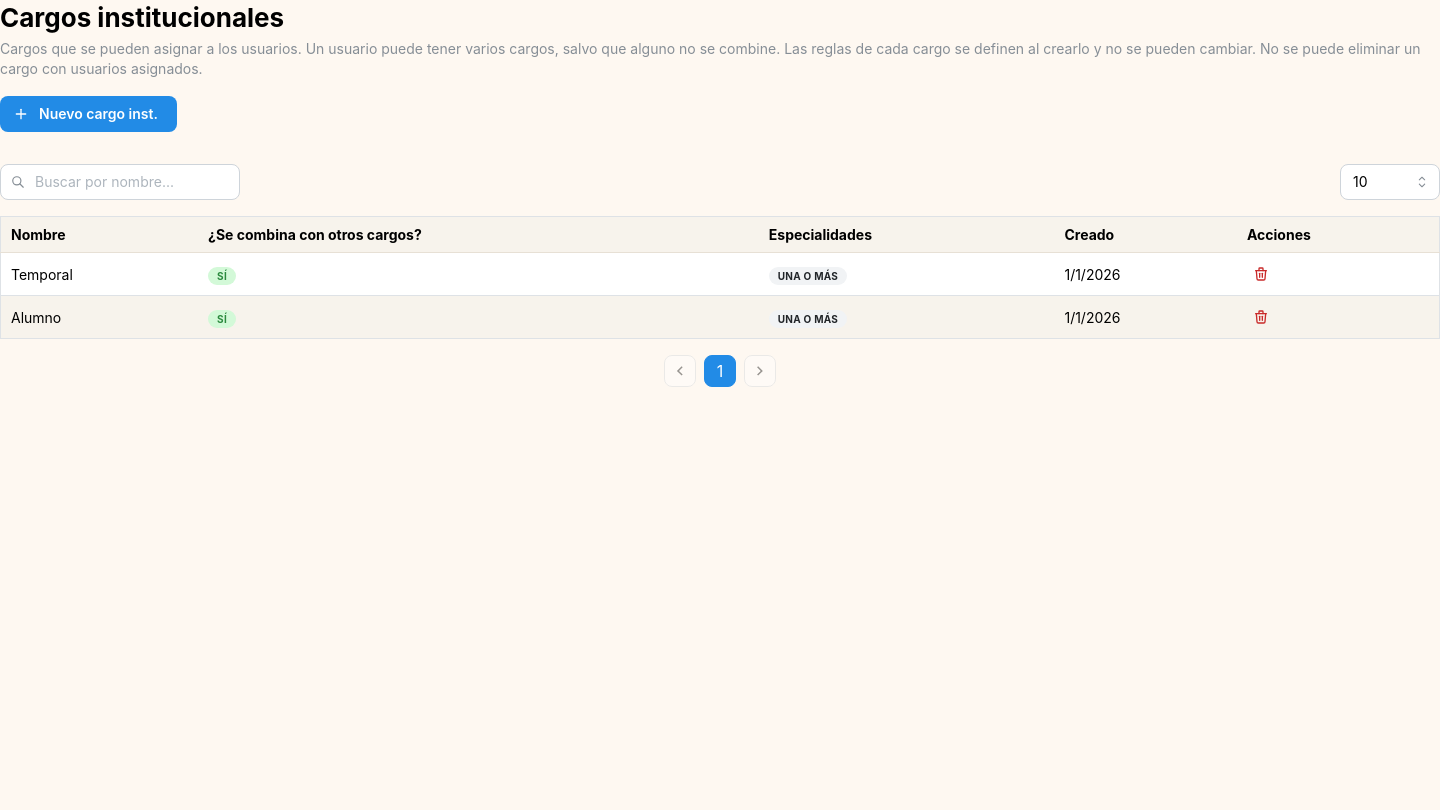
Test: RolesPage › debería eliminar un cargo y manejar error si tiene usuarios asignados
Expected: the text "Temporal" is shown, [0,253,198,296]
Eliminar primer cargo exitosamente
Click the button without text in the row of "Temporal": (1261, 274) [1247,260,1275,288]
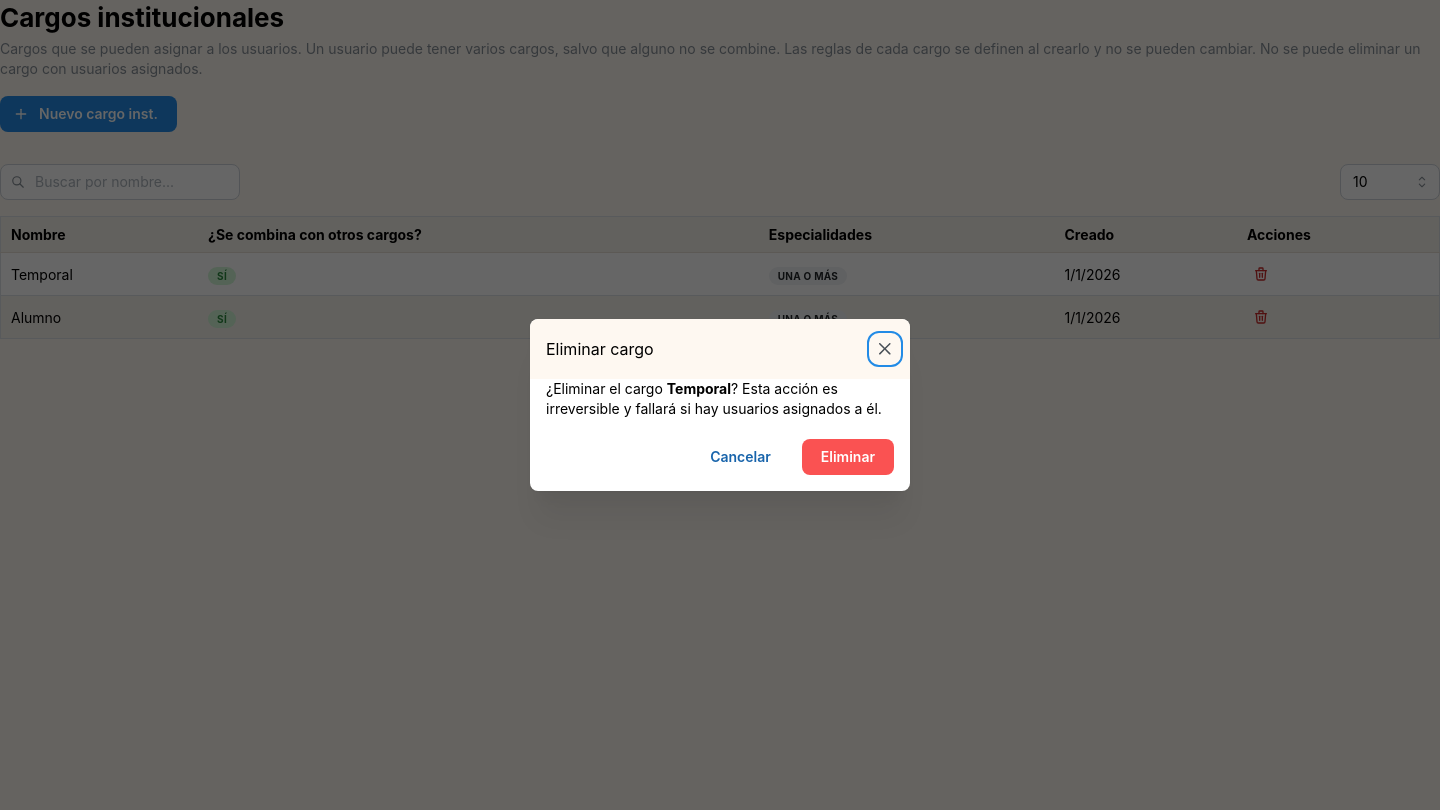
Click the button "Eliminar": (848, 457) [802,439,894,475]
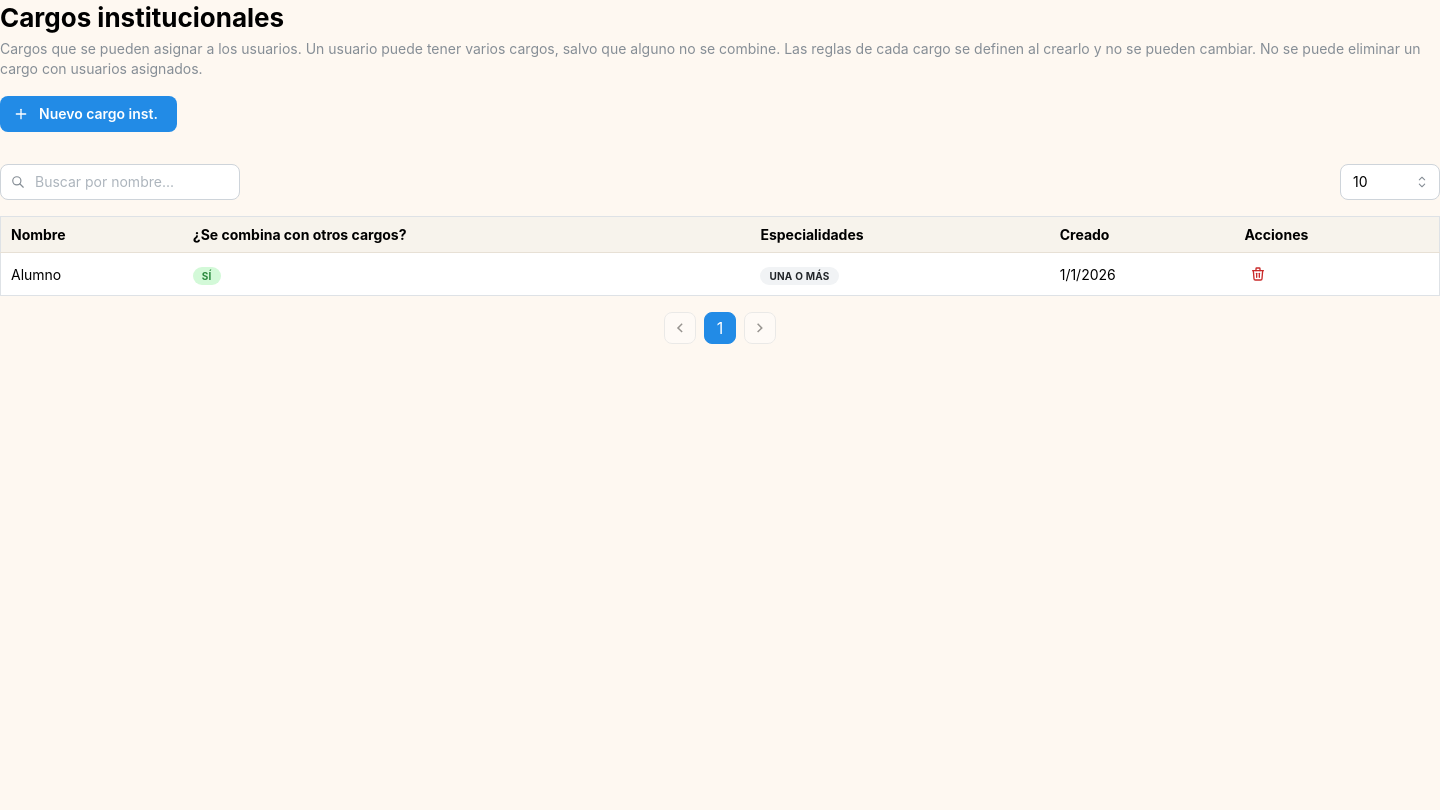
Result: the text "Temporal" is gone
Result: the text "¿Eliminar el cargo" is gone
Intentar eliminar segundo cargo con error del backend
Click the button without text in the row of "Alumno": (1258, 274) [1244,260,1272,288]
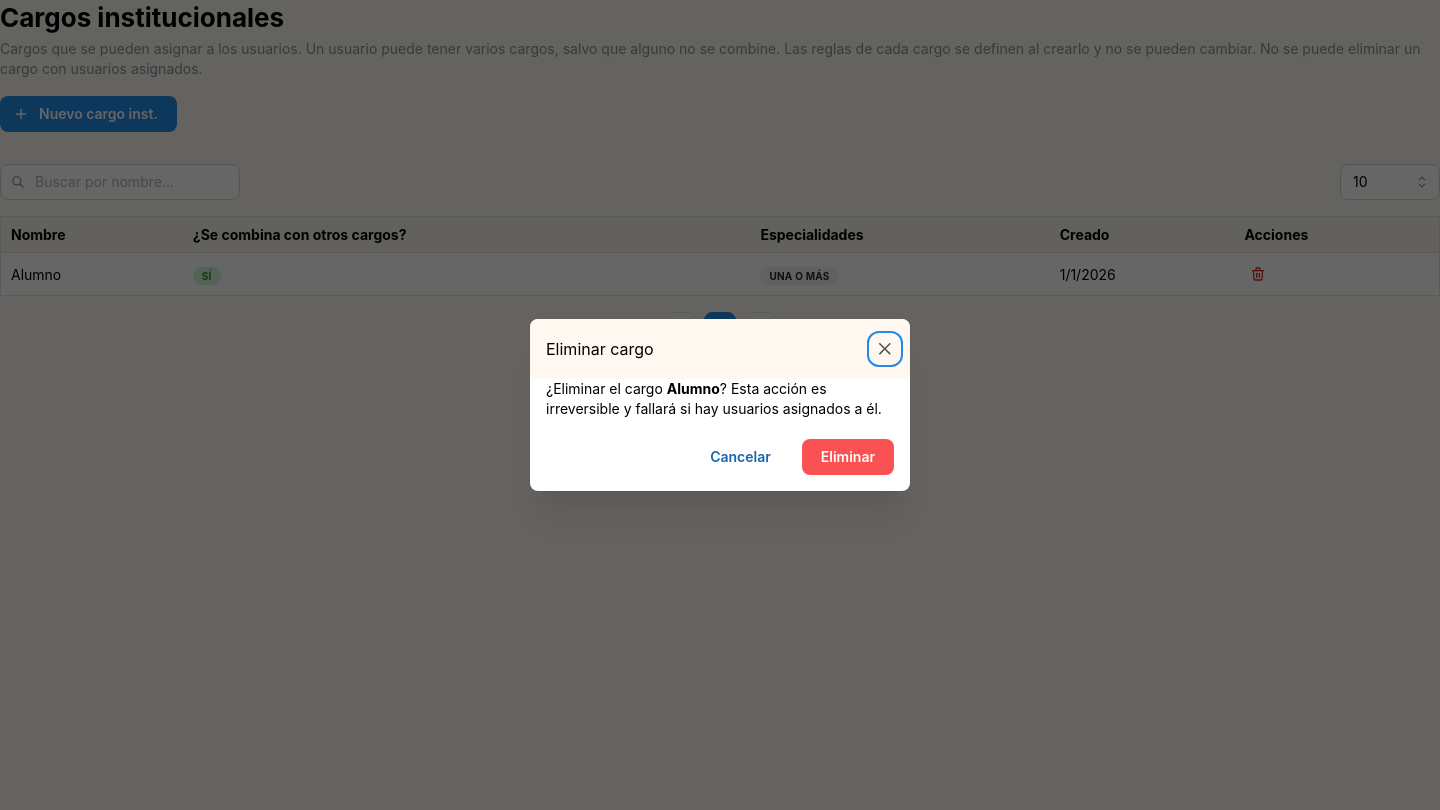
Click the button "Eliminar": (848, 457) [802,439,894,475]
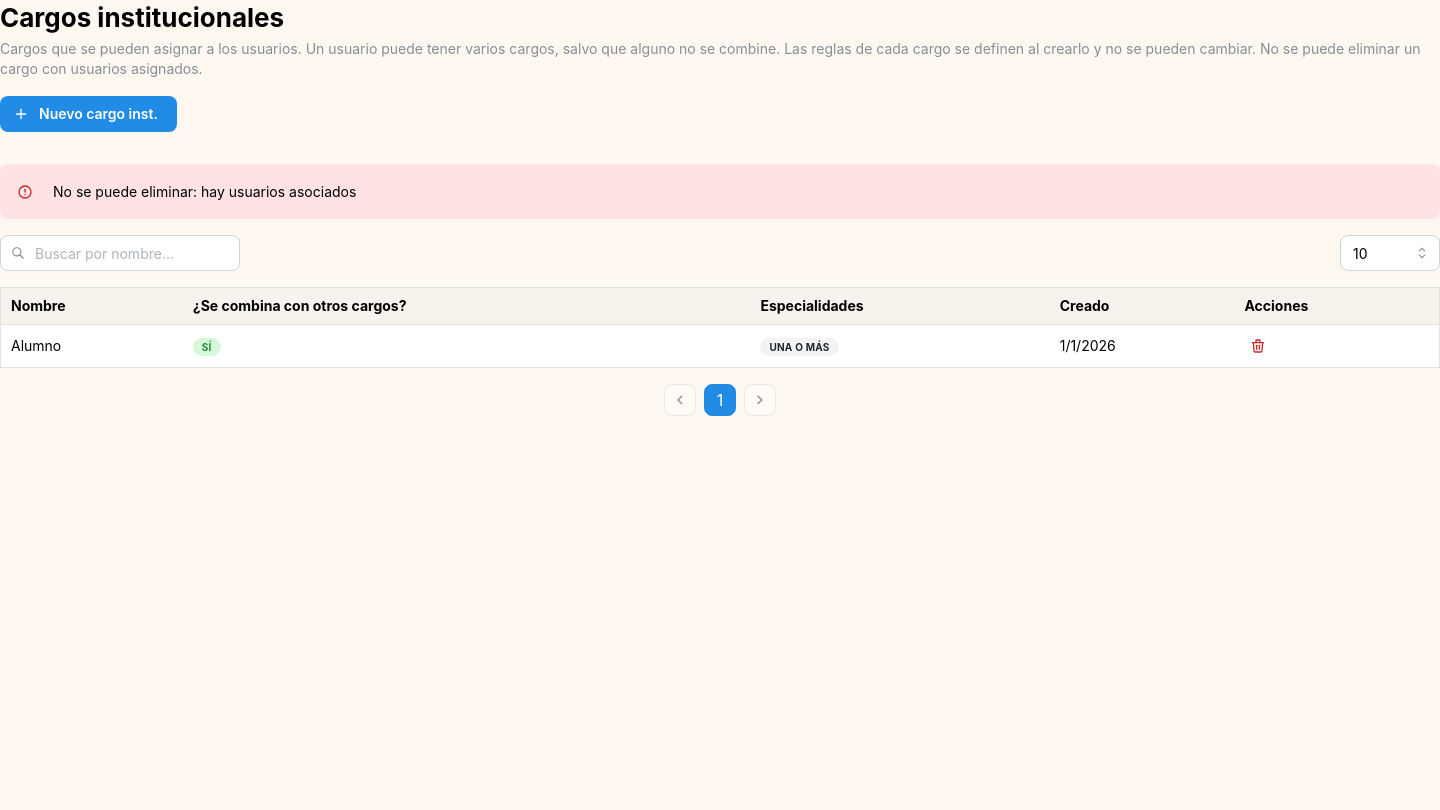
Result: the text "No se puede eliminar: hay usuarios asociados" is shown at [53,183,356,200]
